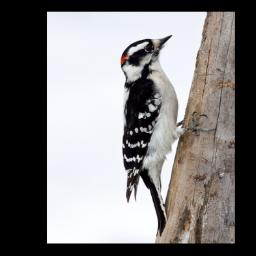Woodpecker: (116, 31, 218, 239)
